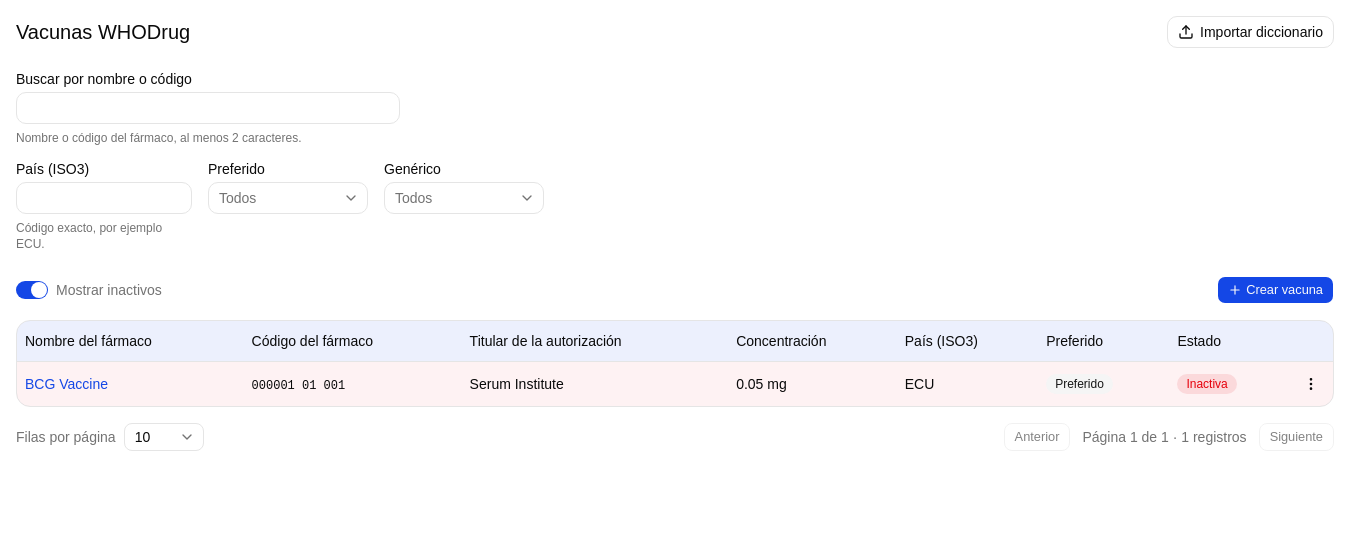
Scenario: VaccineWhodrugListPage — rol, filas y acciones (SPEC FE25c §3.1) › con SUPERADMIN, una fila inactiva ofrece «Ver», «Editar», «Ver auditoría» y «Reactivar»
expect the link "BCG Vaccine" is shown: met, box [25,376,108,392]
Click the button named "Acciones de la vacuna" at (1311, 384), box [1297,370,1325,398]
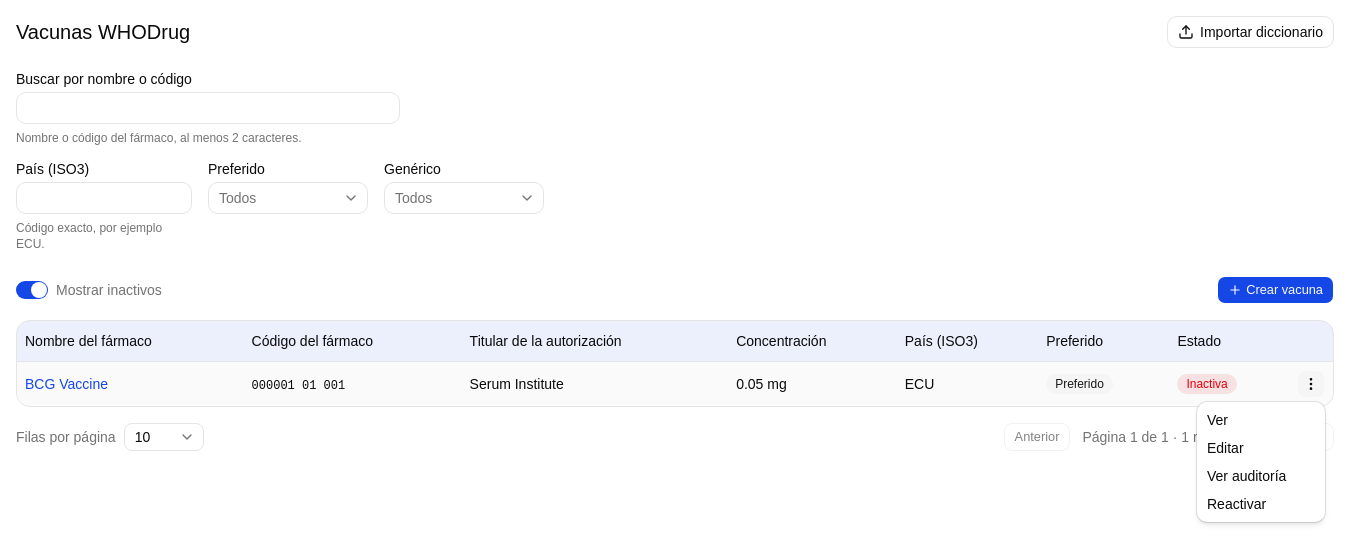
expect the menu item "Ver" is shown: met, box [1207,412,1228,428]
expect the menu item "Editar" is shown: met, box [1207,440,1244,456]
expect the menu item "Ver auditoría" is shown: met, box [1207,468,1286,484]
